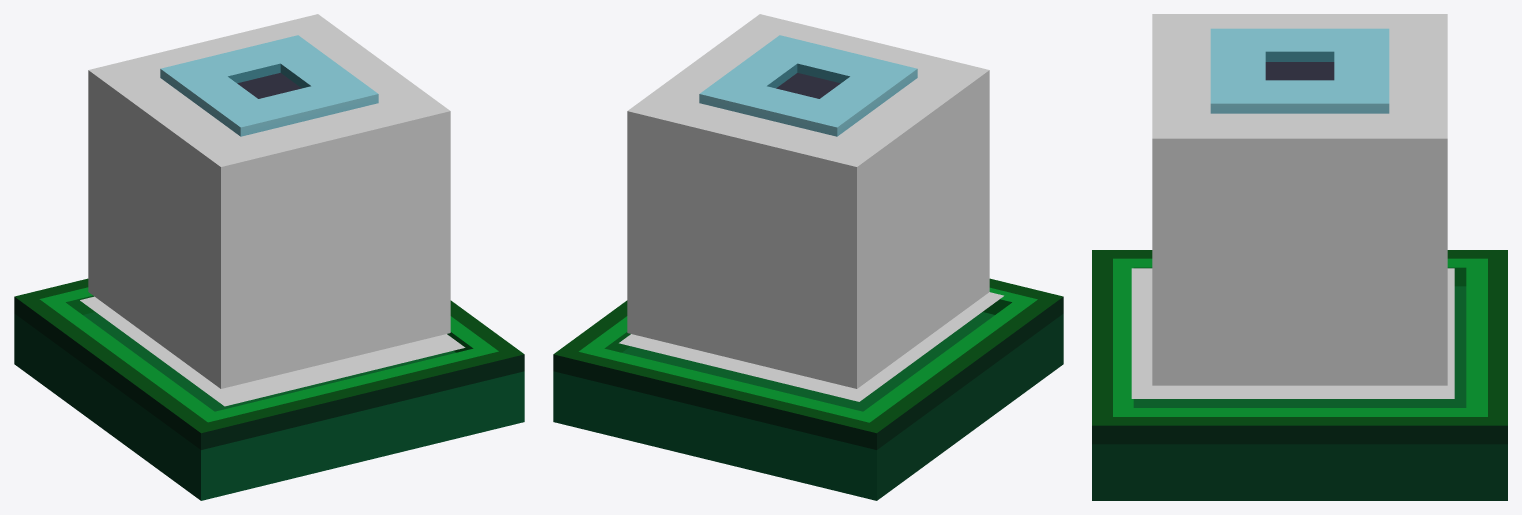
Rendered from Tower_Goo_L3.fbx.
3 renders of one model, left to right at view 1: azimuth 30°, elevation 25°; view 2: azimuth 150°, elevation 25°; view 3: azimuth 270°, elevation 25°, orthographic. The views are drawn at different scales.
Parts seen in each view (by area): view 1: Stroke, Base, HairTop, Shadow; view 2: Stroke, Base, HairTop, Shadow; view 3: Stroke, Base, HairTop, Shadow.
Part boxes in pixels (<box>): Stroke: <box>88,14,450,388</box>; Base: <box>14,278,524,500</box>; HairTop: <box>160,35,378,136</box>; Shadow: <box>80,296,465,406</box>; Stroke: <box>627,14,989,388</box>; Base: <box>553,278,1063,500</box>; HairTop: <box>699,35,917,136</box>; Shadow: <box>619,292,1003,401</box>; Stroke: <box>1152,14,1447,385</box>; Base: <box>1092,250,1507,500</box>; HairTop: <box>1210,28,1389,113</box>; Shadow: <box>1131,268,1454,398</box>.
Size of the model in its own units: 100 by 92.11 by 100.
